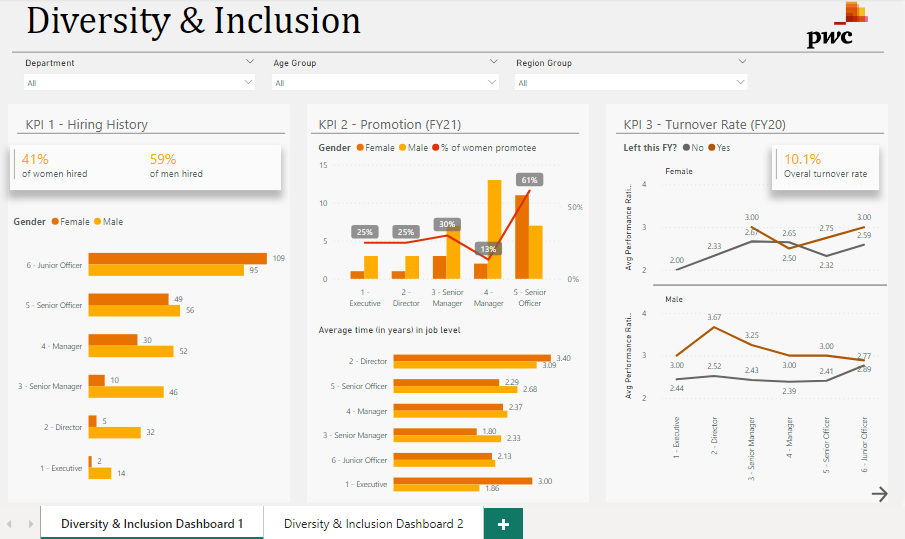

Layout of this report page (visuals, bound fields, positions):
{"tool":"powerbi","page":{"name":"Diversity & Inclusion Dashboard 1","canvas":[1280,720],"ordinal":0},"visuals":[{"type":"basicShape","box":[8,144,408,576],"z":0},{"type":"basicShape","box":[8,56,1256,40],"z":1000},{"type":"slicer","fields":{"Values":["Pharma Group AG.Last Department in FY20"]},"box":[24,80,350,64],"z":2000},{"type":"basicShape","box":[432,144,408,576],"z":3000},{"type":"basicShape","box":[856,144,408,576],"z":4000},{"type":"clusteredBarChart","title":"Hiring Job Level","fields":{"Category":["Pharma Group AG.Job Level after FY20 promotions"],"Y":["CountNonNull(Pharma Group AG.Employee ID)"],"Series":["Pharma Group AG.Gender"]},"box":[16,296,400,416],"z":6000},{"type":"multiRowCard","fields":{"Values":["Pharma Group AG.% hire women","Pharma Group AG.% hire men"]},"box":[16,208,384,64],"z":7000},{"type":"basicShape","box":[16,176,400,32],"z":8000},{"type":"textbox","box":[32,160,320,48],"z":9000},{"type":"slicer","fields":{"Values":["Pharma Group AG.Age group"]},"box":[376,80,344,64],"z":10000},{"type":"slicer","fields":{"Values":["Pharma Group AG.Broad region group: nationality 1"]},"box":[720,80,352,64],"z":11000},{"type":"lineClusteredColumnComboChart","fields":{"Y2":["Pharma Group AG.% women promoted"],"Y":["CountNonNull(Pharma Group AG.Employee ID)"],"Category":["Pharma Group AG.Job Level after FY21 promotions"],"Series":["Pharma Group AG.Gender"]},"box":[448,192,384,256],"z":12000},{"type":"basicShape","box":[432,176,400,32],"z":13000},{"type":"basicShape","box":[864,176,400,32],"z":14000},{"type":"clusteredBarChart","title":"Average time (in years) in job level","fields":{"Y":["Avg(Pharma Group AG.Time in Job Level @01.07.2020)"],"Category":["Pharma Group AG.Job Level after FY20 promotions"],"Series":["Pharma Group AG.Gender"]},"box":[448,464,368,256],"z":15000},{"type":"textbox","box":[448,160,320,48],"z":16000},{"type":"lineChart","fields":{"Category":["Pharma Group AG.Job Level after FY20 promotions"],"Series":["Pharma Group AG.FY20 leaver?"],"Y":["Avg(Pharma Group AG.FY19 Performance Rating)"],"Rows":["Pharma Group AG.Gender"]},"box":[880,192,384,512],"z":17000},{"type":"multiRowCard","fields":{"Values":["Pharma Group AG.% turnover"]},"box":[1096,208,152,64],"z":18000},{"type":"actionButton","box":[1232,688,48,32],"z":19000},{"type":"textbox","box":[880,160,368,48],"z":20000},{"type":"textbox","box":[32,0,1168,80],"z":21000},{"type":"image","box":[1095.6,0,184.3,76.5],"z":21001}]}

Visuals, with their boxes on the page's 1280x720 design canvas (x1, y1, x2, y2). These are canvas units, not pixel positions in the 905x539 screenshot, which may show the page scaled, cropped or inside an application window:
basicShape: select_region(8, 144, 416, 720)
basicShape: select_region(8, 56, 1264, 96)
slicer - Pharma Group AG.Last Department in FY20: select_region(24, 80, 374, 144)
basicShape: select_region(432, 144, 840, 720)
basicShape: select_region(856, 144, 1264, 720)
"Hiring Job Level" clusteredBarChart: select_region(16, 296, 416, 712)
multiRowCard - Pharma Group AG.% hire women x Pharma Group AG.% hire men: select_region(16, 208, 400, 272)
basicShape: select_region(16, 176, 416, 208)
textbox: select_region(32, 160, 352, 208)
slicer - Pharma Group AG.Age group: select_region(376, 80, 720, 144)
slicer - Pharma Group AG.Broad region group: nationality 1: select_region(720, 80, 1072, 144)
lineClusteredColumnComboChart - Pharma Group AG.% women promoted x CountNonNull(Pharma Group AG.Employee ID): select_region(448, 192, 832, 448)
basicShape: select_region(432, 176, 832, 208)
basicShape: select_region(864, 176, 1264, 208)
"Average time (in years) in job level" clusteredBarChart: select_region(448, 464, 816, 720)
textbox: select_region(448, 160, 768, 208)
lineChart - Pharma Group AG.Job Level after FY20 promotions x Pharma Group AG.FY20 leaver?: select_region(880, 192, 1264, 704)
multiRowCard - Pharma Group AG.% turnover: select_region(1096, 208, 1248, 272)
actionButton: select_region(1232, 688, 1280, 720)
textbox: select_region(880, 160, 1248, 208)
textbox: select_region(32, 0, 1200, 80)
image: select_region(1096, 0, 1280, 76)
